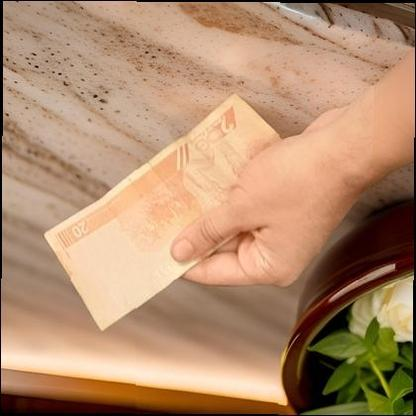twenty-back-vef: (44, 92, 284, 332)
